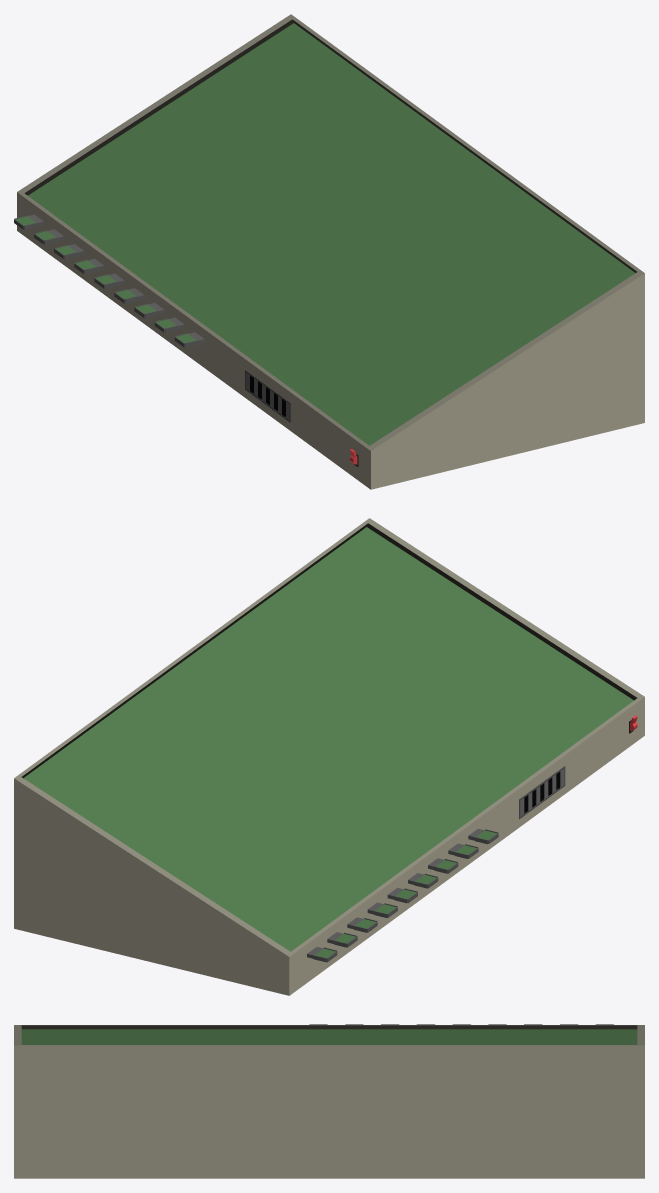
File: DatabaseComputer.glb
3 renders of one model, top to bottom at view 1: azimuth 30°, elevation 25°; view 2: azimuth 150°, elevation 25°; view 3: azimuth 270°, elevation 25°, orthographic. The views are drawn at different scales.
Parts seen in each view (by area): view 1: DatabaseScreen, Cube; view 2: DatabaseScreen, Cube; view 3: Cube, DatabaseScreen.
Part boxes in pixels (x1,y1,x2,y2): DatabaseScreen: [28, 23, 635, 445]; Cube: [14, 14, 644, 489]; DatabaseScreen: [23, 527, 633, 951]; Cube: [14, 518, 644, 995]; Cube: [14, 1024, 644, 1178]; DatabaseScreen: [21, 1029, 637, 1044].
Size of the model in its own units: 0.6146 by 0.2984 by 1.28.
